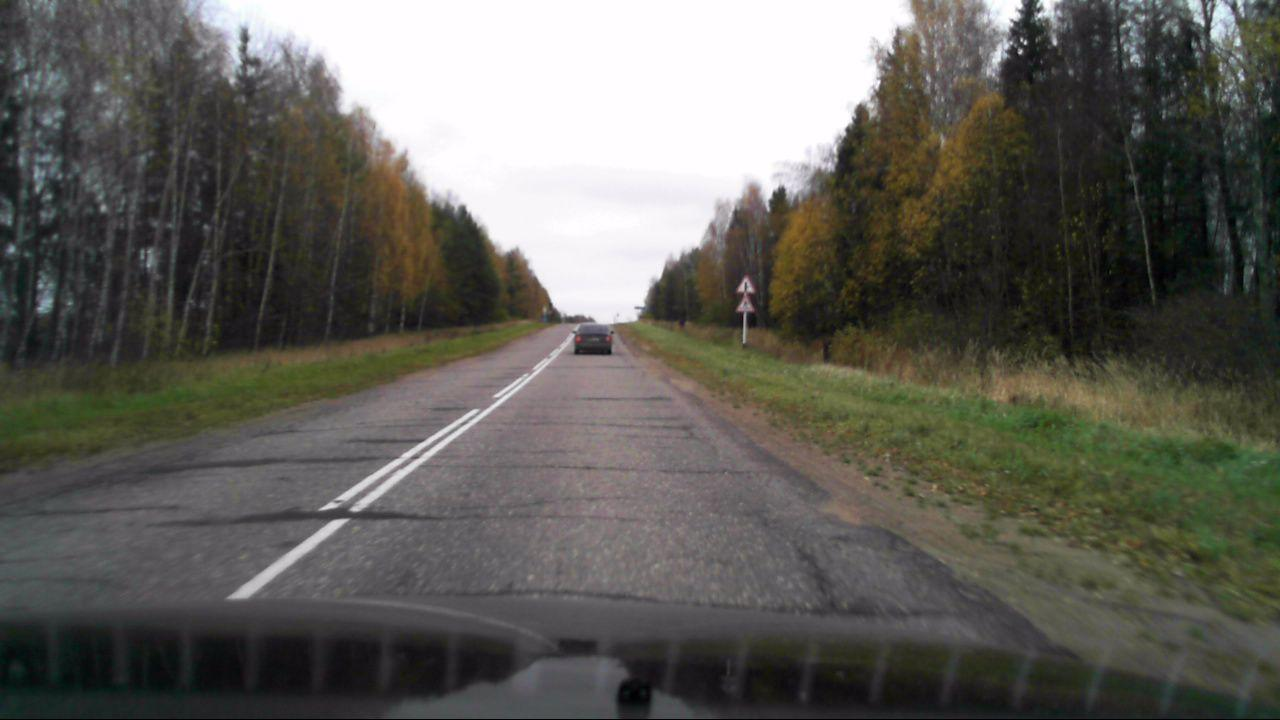road_sign: (733, 272, 758, 294)
